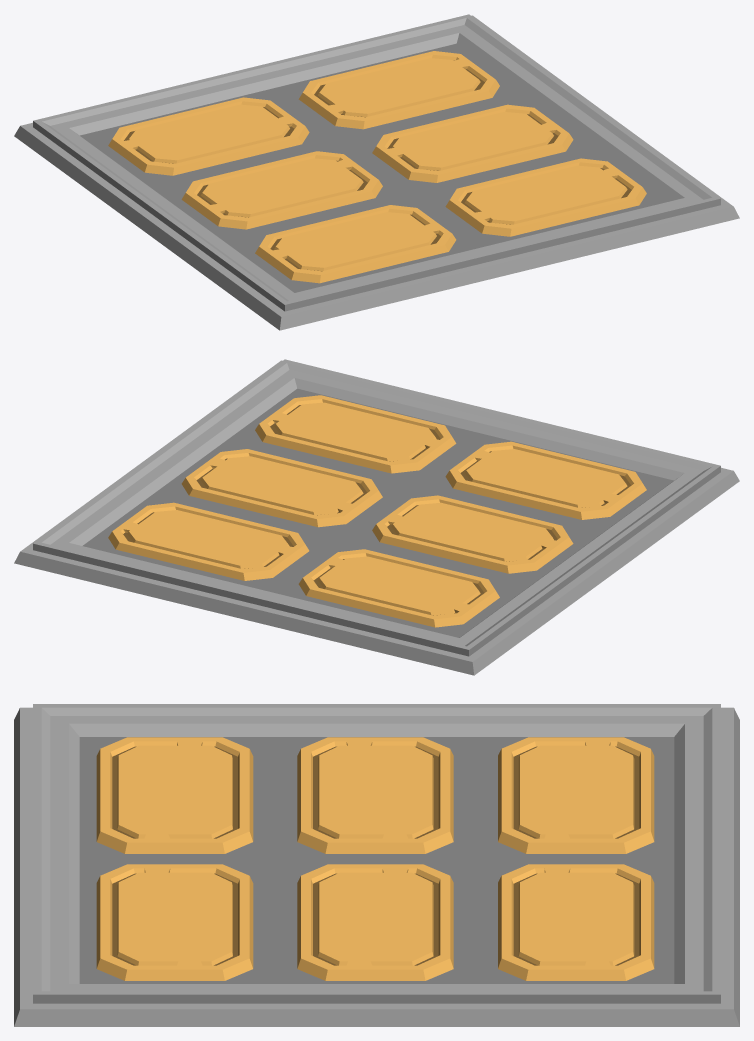
File: roof_tile_details.obj
The picture shows the model from 3 angles, top to bottom: view 1: azimuth 30°, elevation 25°; view 2: azimuth 150°, elevation 25°; view 3: azimuth 270°, elevation 25°; orthographic projection. The views are drawn at different scales.
Parts seen in each view (by area): view 1: roof_tile_details; view 2: roof_tile_details; view 3: roof_tile_details.
Part boxes in pixels (box(x1,y1,x2,y2)): roof_tile_details: box(14, 14, 739, 330); roof_tile_details: box(14, 359, 739, 675); roof_tile_details: box(14, 704, 739, 1026).
Bounding box in the file's own units: 2 × 0.0805 × 2.
